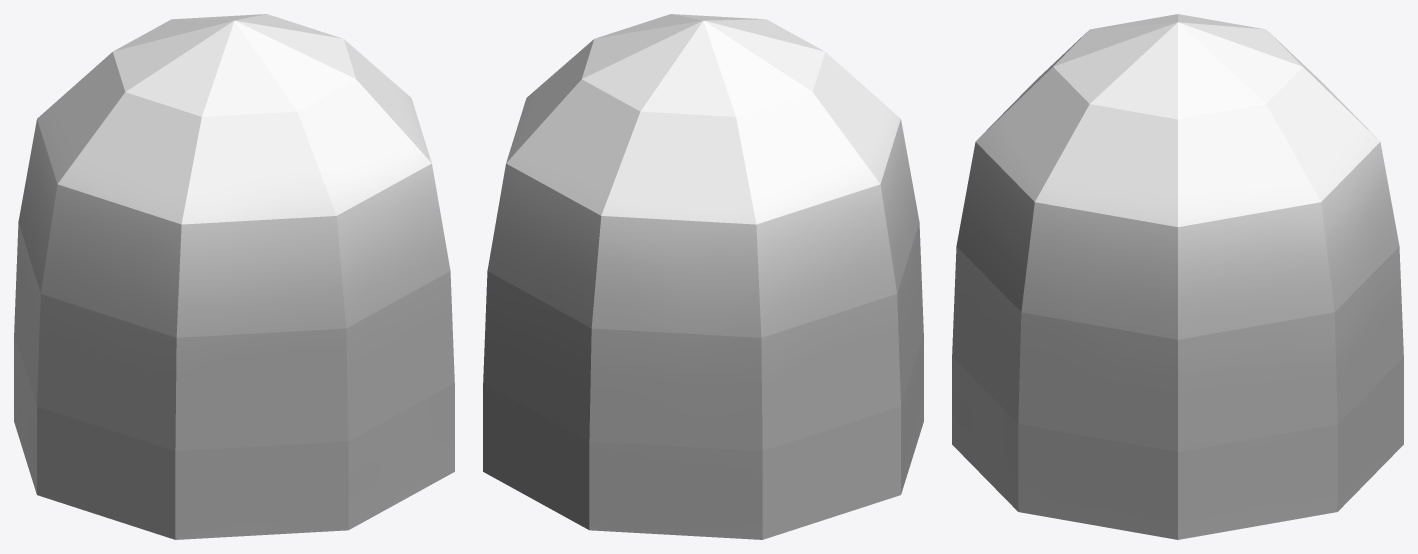
File: bullet 1.fbx
The picture shows the model from 3 angles, left to right: view 1: azimuth 30°, elevation 25°; view 2: azimuth 150°, elevation 25°; view 3: azimuth 270°, elevation 25°; orthographic projection.
Parts seen in each view (by area): view 1: pCylinder1; view 2: pCylinder1; view 3: pCylinder1.
Boxes of the visible parts, x1,y1,x2,y2 form: pCylinder1: (14,14,454,539); pCylinder1: (483,14,923,539); pCylinder1: (952,14,1403,539).
Size of the model in its own units: 2.03 by 2.1 by 2.03.
1 material, 1 textured.
